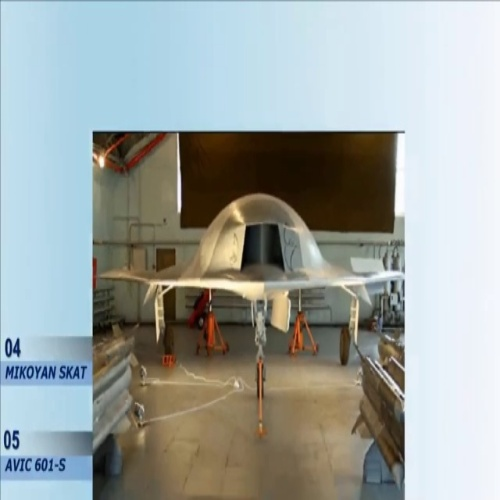uav: (96, 191, 401, 308)
